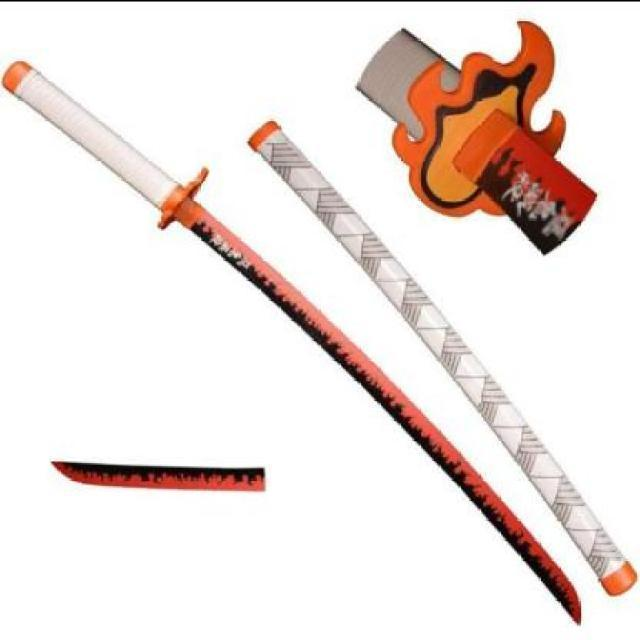weapon: (4, 60, 586, 628)
